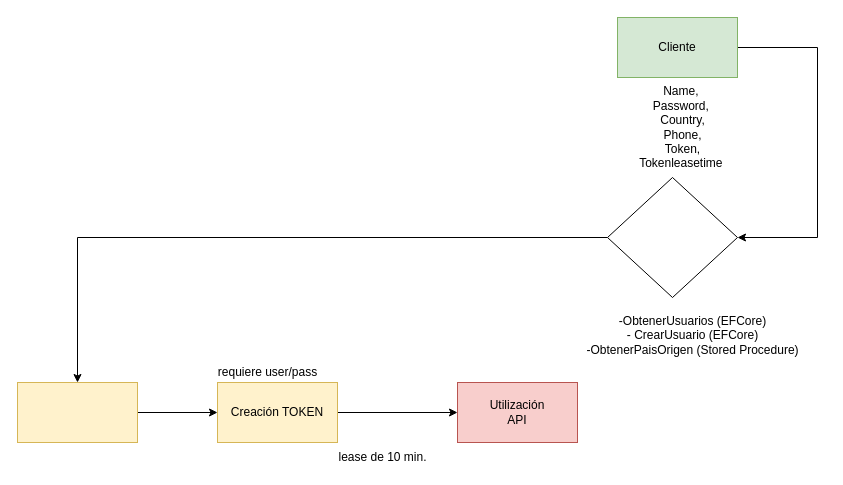
Image size: 843x485. Some labels were removed from this diagram. The shapes that lost their labels are listed below. From the top down, each one's centre as x and y in pixels, then its label:
(672,237): API Procesos
(77,412): Creación Usuario
